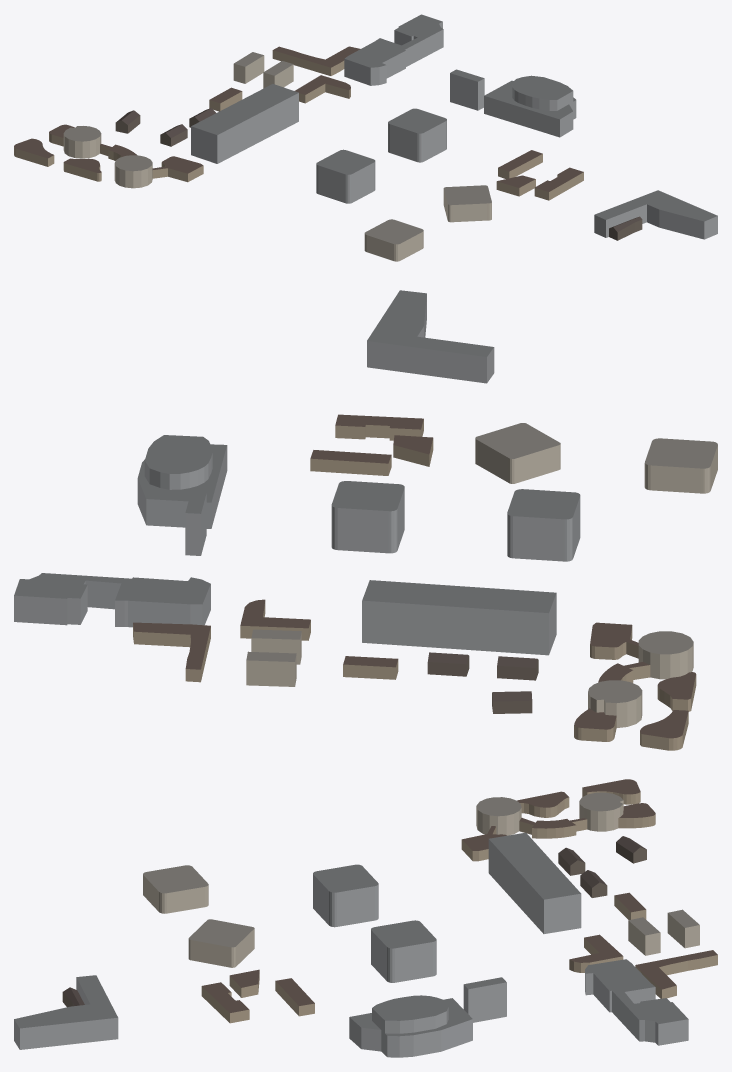
Rendered from tile_4_1.glb.
3 renders of one model, top to bottom at view 1: azimuth 30°, elevation 25°; view 2: azimuth 150°, elevation 25°; view 3: azimuth 270°, elevation 25°, orthographic. The views are drawn at different scales.
Visible parts, largest first — view 1: HP-w1233759495, HP-w1515076955, HP-w490656160, HP-w859488699, HP-w859488700, HP-w1157348022, HP-w859488698, HP-w1157348023, HP-w859488697, HP-w1157348021, HP-w299224149, HP-w299224151 (+14 smaller); view 2: HP-w1233759495, HP-w1515076955, HP-w490656160, HP-w859488700, HP-w859488699, HP-w859488697, HP-w859488698, HP-w1157348022, HP-w1157348023, HP-w299224149, HP-w299224151, HP-w859488695 (+17 smaller); view 3: HP-w1233759495, HP-w1515076955, HP-w490656160, HP-w1157348022, HP-w859488700, HP-w859488699, HP-w859488698, HP-w859488697, HP-w1157348023, HP-w1157348021, HP-w299224149, HP-w299224151 (+17 smaller).
Part boxes in pixels (x1,y1,x2,y2): HP-w1233759495: (191, 84, 298, 163); HP-w1515076955: (344, 14, 443, 85); HP-w490656160: (594, 190, 717, 239); HP-w859488699: (316, 149, 375, 203); HP-w859488700: (388, 108, 446, 162); HP-w1157348022: (484, 80, 576, 137); HP-w859488698: (364, 219, 423, 261); HP-w1157348023: (512, 75, 573, 110); HP-w859488697: (443, 185, 491, 222); HP-w1157348021: (450, 69, 484, 110); HP-w299224149: (114, 155, 152, 188); HP-w299224151: (63, 126, 101, 158); HP-w1233759495: (362, 580, 556, 655); HP-w1515076955: (14, 573, 210, 627); HP-w490656160: (367, 290, 494, 383); HP-w859488700: (331, 481, 404, 553); HP-w859488699: (507, 489, 580, 561); HP-w859488697: (475, 423, 560, 483); HP-w859488698: (644, 438, 717, 493); HP-w1157348022: (137, 444, 227, 528); HP-w1157348023: (144, 435, 212, 489); HP-w299224149: (638, 631, 693, 679); HP-w299224151: (588, 680, 642, 727); HP-w859488695: (335, 414, 423, 440); HP-w1233759495: (488, 832, 581, 933); HP-w1515076955: (585, 959, 688, 1045); HP-w490656160: (14, 975, 118, 1049); HP-w1157348022: (349, 998, 472, 1057); HP-w859488700: (371, 920, 436, 982); HP-w859488699: (313, 864, 378, 927); HP-w859488698: (143, 865, 208, 913); HP-w859488697: (188, 919, 254, 967); HP-w1157348023: (372, 995, 448, 1033); HP-w1157348021: (463, 977, 506, 1022); HP-w299224149: (476, 797, 521, 835); HP-w299224151: (579, 792, 623, 831).
Bounding box in the file's own units: 507 × 30.4 × 563.
